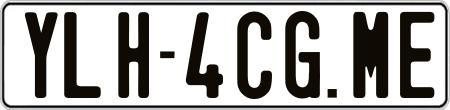4: (186, 9, 224, 96)
C: (237, 9, 276, 98)
E: (397, 9, 435, 95)
G: (282, 9, 321, 97)
H: (117, 9, 154, 101)
L: (63, 9, 105, 100)
M: (352, 12, 390, 99)
Y: (23, 12, 61, 98)
